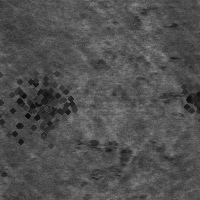rolled-in_scale: (0, 44, 78, 158), (98, 41, 190, 121), (65, 128, 163, 199), (14, 68, 80, 134), (174, 75, 200, 123)
